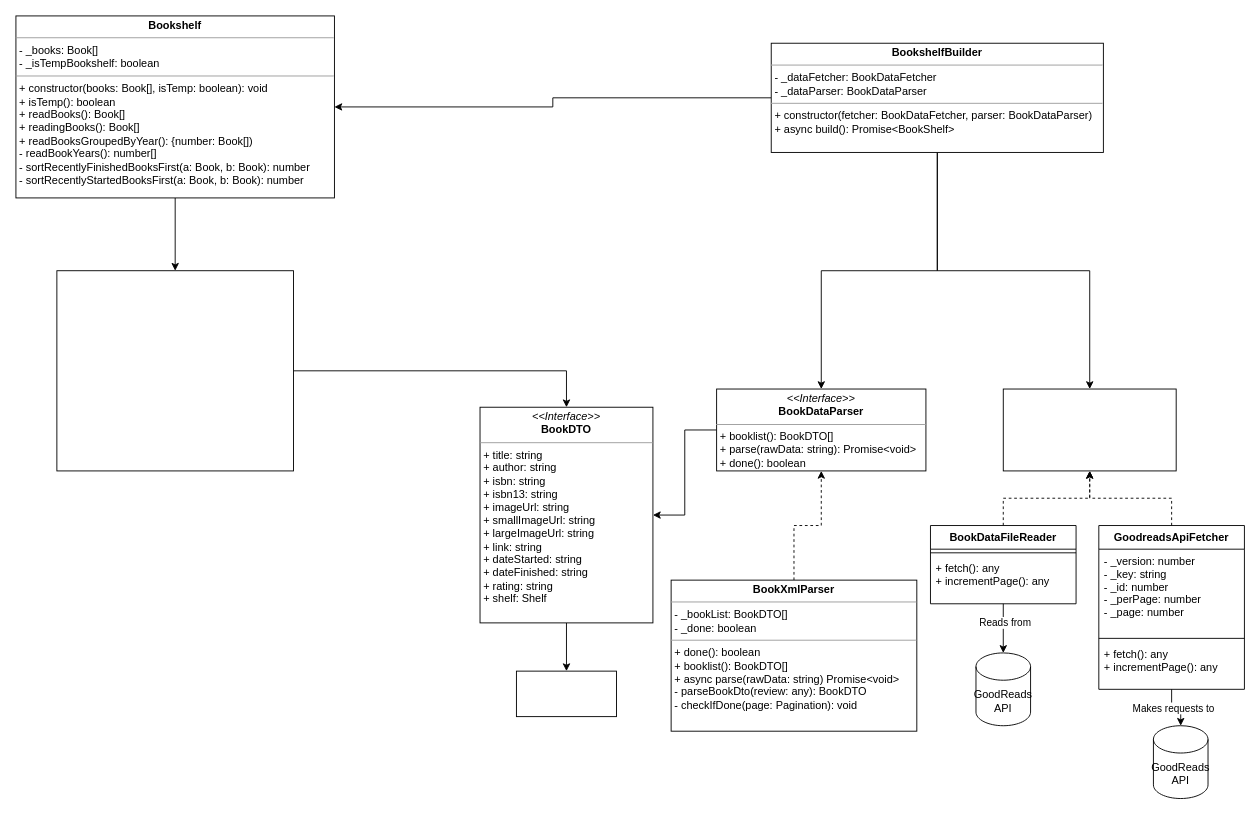
Some shapes in this 1260 by 814 pixel diagram are drawn without their labels. Each missing label, with the centre of its shape:
<<Interface>> BookDataFetcher + fetch(): any + incrementPage(): any: point 1089,429
Book + field: Type + constructor(bookDto: BookDTO): void: point 174,370
«enum» Shelf: point 566,693
